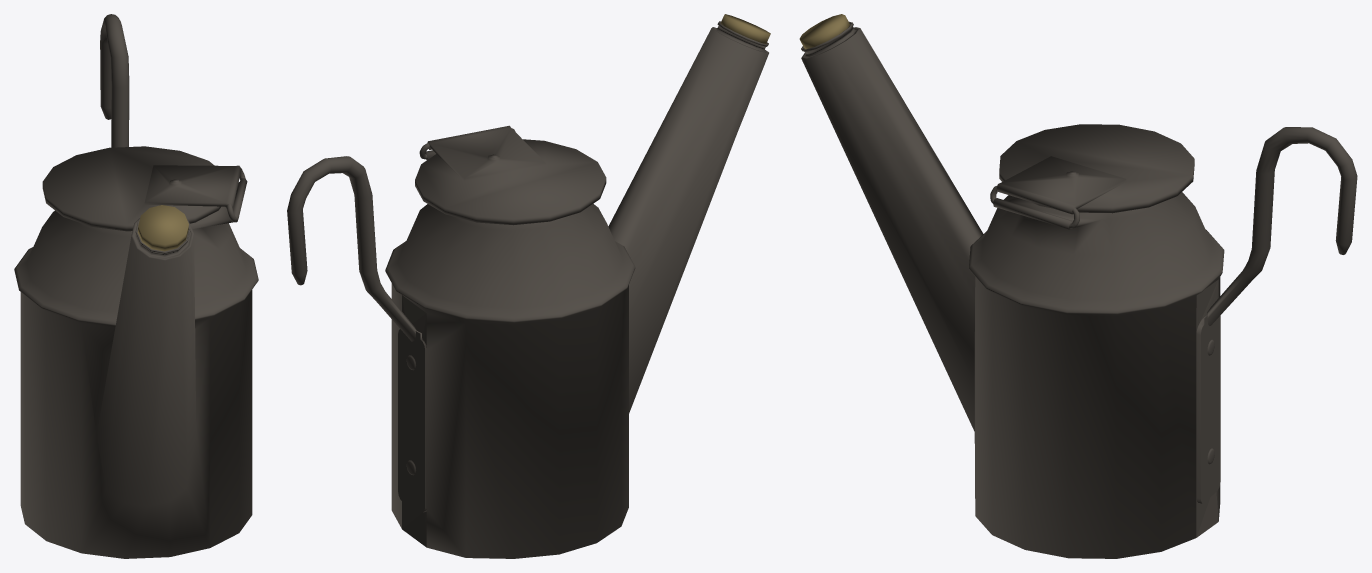
The model's file is CapLamp.fbx.
3 renders of one model, left to right at view 1: azimuth 30°, elevation 25°; view 2: azimuth 150°, elevation 25°; view 3: azimuth 270°, elevation 25°, orthographic. The views are drawn at different scales.
Parts seen in each view (by area): view 1: Lamp, Cap; view 2: Lamp, Cap; view 3: Lamp, Cap.
Part boxes in pixels (left/top/right/bottom): Lamp: left=14, top=14, right=258, bottom=558; Cap: left=42, top=146, right=241, bottom=231; Lamp: left=287, top=14, right=770, bottom=558; Cap: left=415, top=125, right=606, bottom=225; Lamp: left=799, top=14, right=1357, bottom=558; Cap: left=996, top=124, right=1194, bottom=214.
Size of what is drawn, in the model's own units: 11.61 by 20.06 by 23.01.
